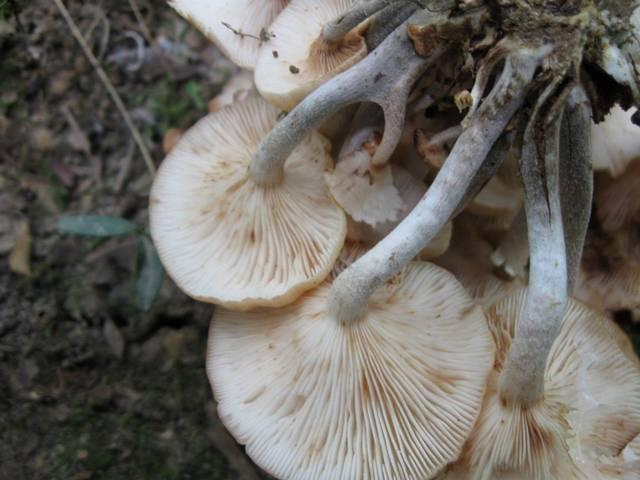edible_mushroom: (145, 0, 639, 479)
